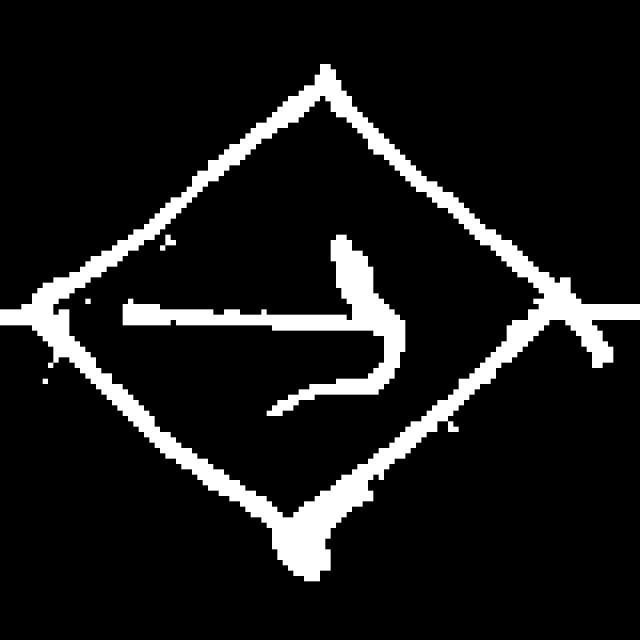dependant_current: (29, 65, 564, 563)
